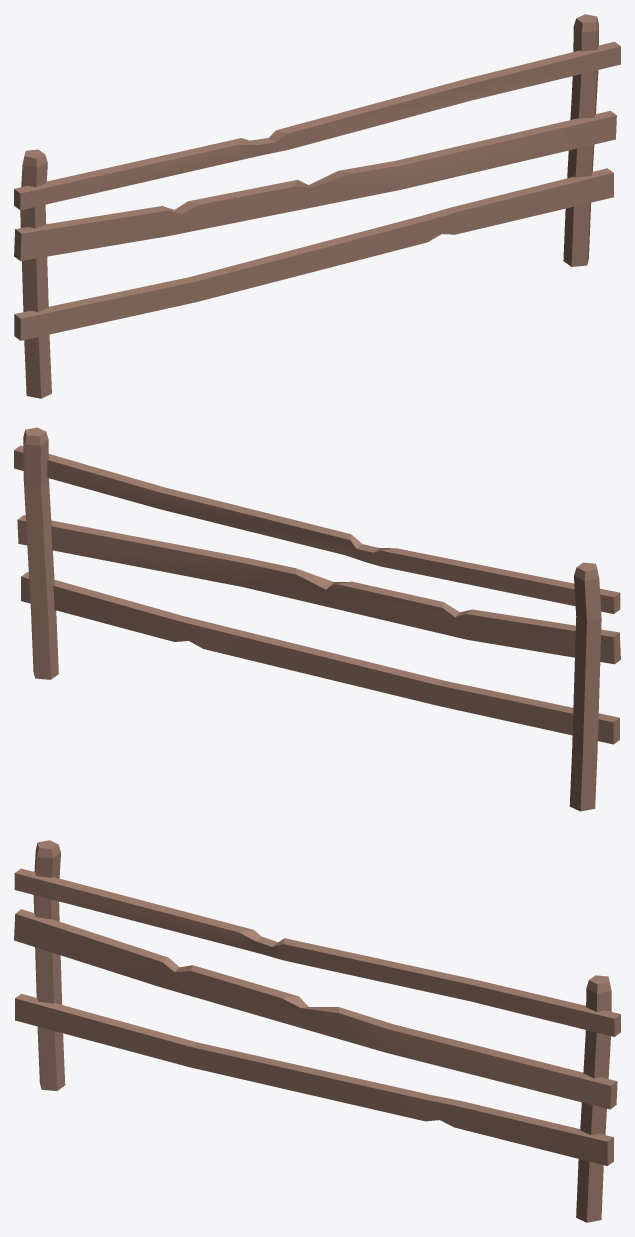
The model's file is Fence_01.fbx.
The picture shows the model from 3 angles, top to bottom: view 1: azimuth 30°, elevation 25°; view 2: azimuth 150°, elevation 25°; view 3: azimuth 330°, elevation 25°; orthographic projection.
Parts seen in each view (by area): view 1: SM_Prop_Fence_Stick_01; view 2: SM_Prop_Fence_Stick_01; view 3: SM_Prop_Fence_Stick_01.
Boxes of the visible parts, left/top/right/bottom form: SM_Prop_Fence_Stick_01: left=14, top=14, right=620, bottom=398; SM_Prop_Fence_Stick_01: left=14, top=427, right=620, bottom=811; SM_Prop_Fence_Stick_01: left=14, top=840, right=620, bottom=1222.
Size of the model in its own units: 329 by 126 by 19.42.
